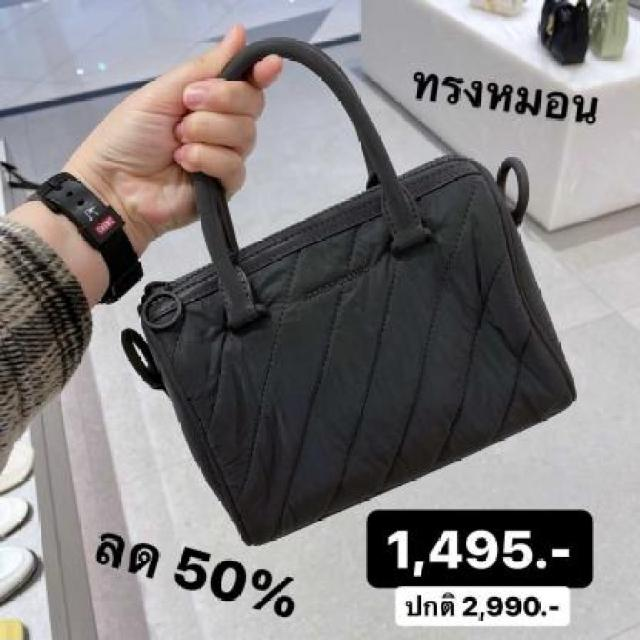Bag: (103, 18, 612, 572)
